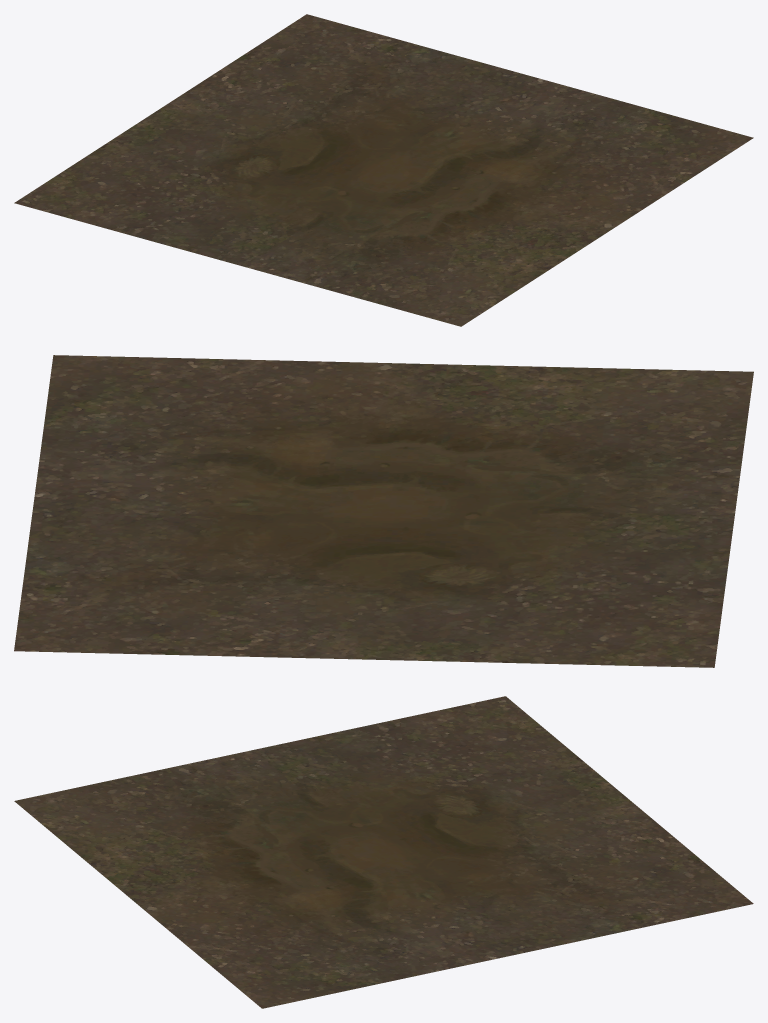
Rendered from dirt_blends02.fbx.
3 views of the same model, one above another, from view 1: azimuth 30°, elevation 25°; view 2: azimuth 150°, elevation 25°; view 3: azimuth 270°, elevation 25° (orthographic). The views are drawn at different scales.
Parts seen in each view (by area): view 1: dirt_blend_shadow; view 2: dirt_blend_shadow; view 3: dirt_blend_shadow.
Boxes of the visible parts, box(x1,y1,x2,y2) form: dirt_blend_shadow: box(14, 14, 753, 326); dirt_blend_shadow: box(14, 355, 753, 667); dirt_blend_shadow: box(14, 696, 753, 1008).
Size of the model in its own units: 9.56 by 0 by 9.56.
